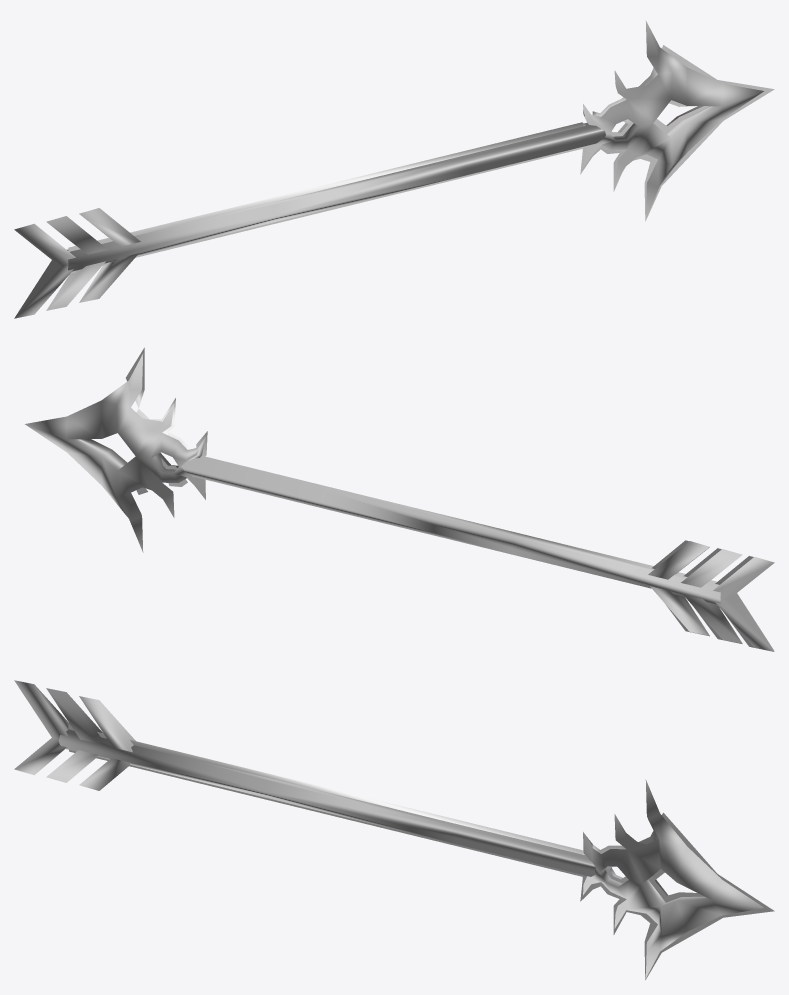
Rendered from BonefireArrow1_mdx.gltf.
3 views of the same model, one above another, from view 1: azimuth 30°, elevation 25°; view 2: azimuth 150°, elevation 25°; view 3: azimuth 330°, elevation 25° (orthographic).
Visible parts, largest first — view 1: Bonefire Arrow; view 2: Bonefire Arrow; view 3: Bonefire Arrow.
Boxes of the visible parts, box(x1,y1,x2,y2) form: Bonefire Arrow: box(14, 20, 774, 318); Bonefire Arrow: box(25, 347, 774, 651); Bonefire Arrow: box(14, 680, 774, 979).
Bounding box in the file's own units: 84.43 × 22.08 × 2.16.
